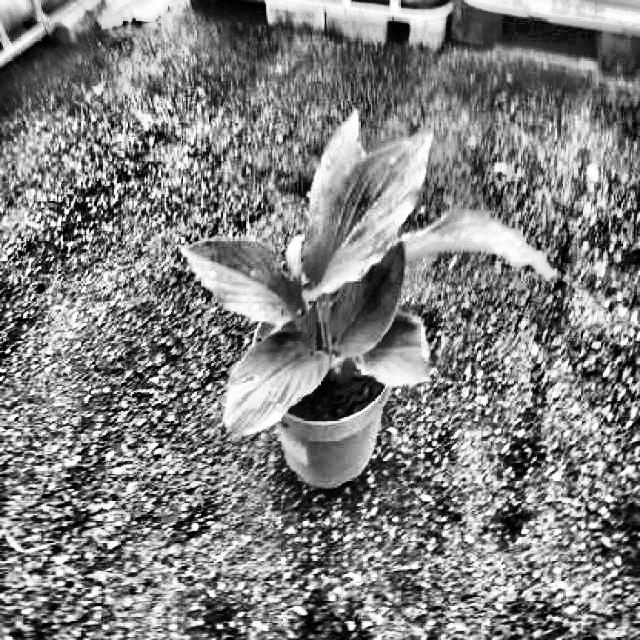plants: (180, 112, 554, 445)
